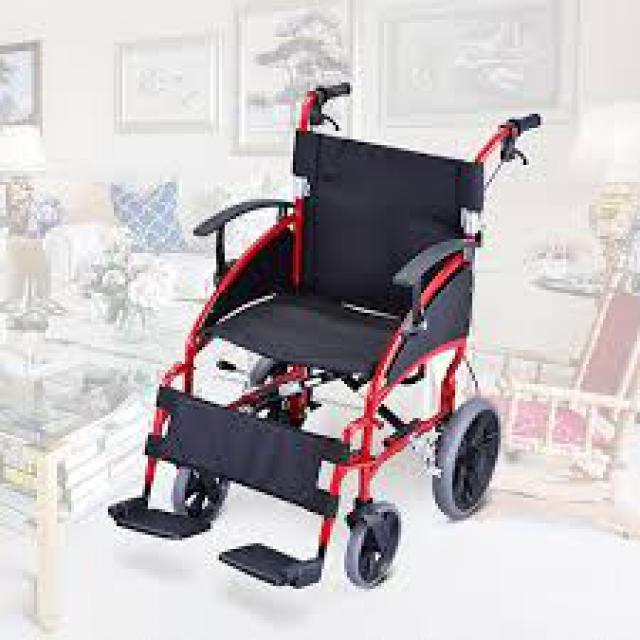wheelchairs: (111, 85, 500, 588)
